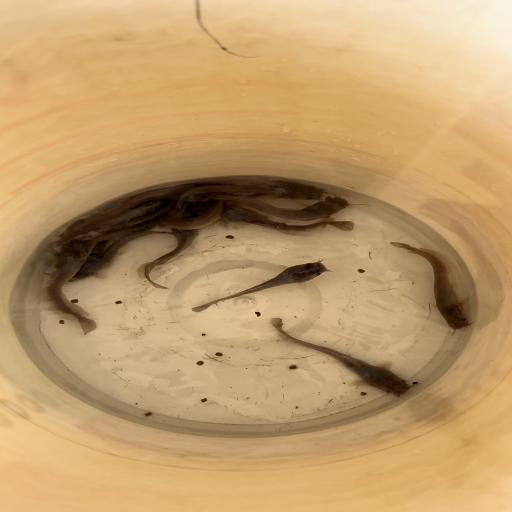lele: (269, 317, 412, 398), (190, 260, 329, 314), (388, 242, 472, 331), (76, 232, 178, 280), (43, 240, 94, 336), (98, 179, 220, 217), (223, 205, 355, 240), (173, 179, 327, 207), (146, 230, 205, 292), (232, 196, 354, 222), (82, 220, 156, 256), (91, 200, 163, 232), (167, 202, 225, 230)
